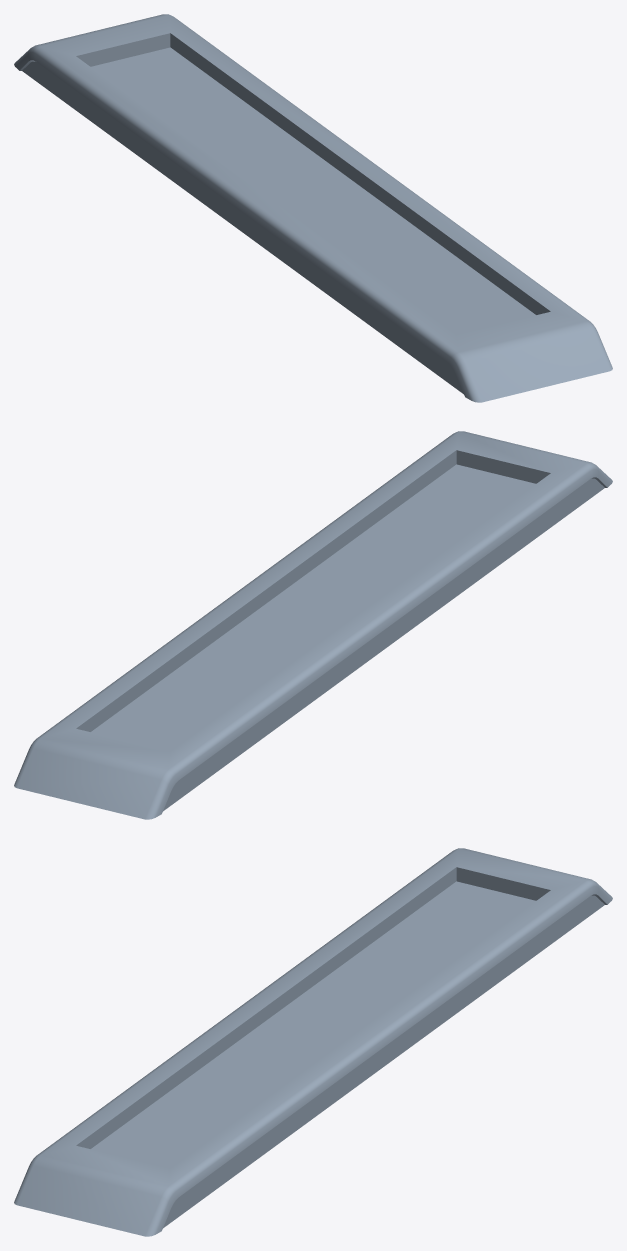
File: PotMiddleLarge.fbx
3 renders of one model, top to bottom at view 1: azimuth 30°, elevation 25°; view 2: azimuth 150°, elevation 25°; view 3: azimuth 330°, elevation 25°, orthographic.
Visible parts, largest first — view 1: PotMiddleLarge_LOD0; view 2: PotMiddleLarge_LOD0; view 3: PotMiddleLarge_LOD0.
Part boxes in pixels (box(x1,y1,x2,y2)): PotMiddleLarge_LOD0: box(14, 14, 612, 402); PotMiddleLarge_LOD0: box(14, 431, 612, 819); PotMiddleLarge_LOD0: box(14, 848, 612, 1236).
Size of what is drawn, in the model's own units: 169 by 36.98 by 954.
